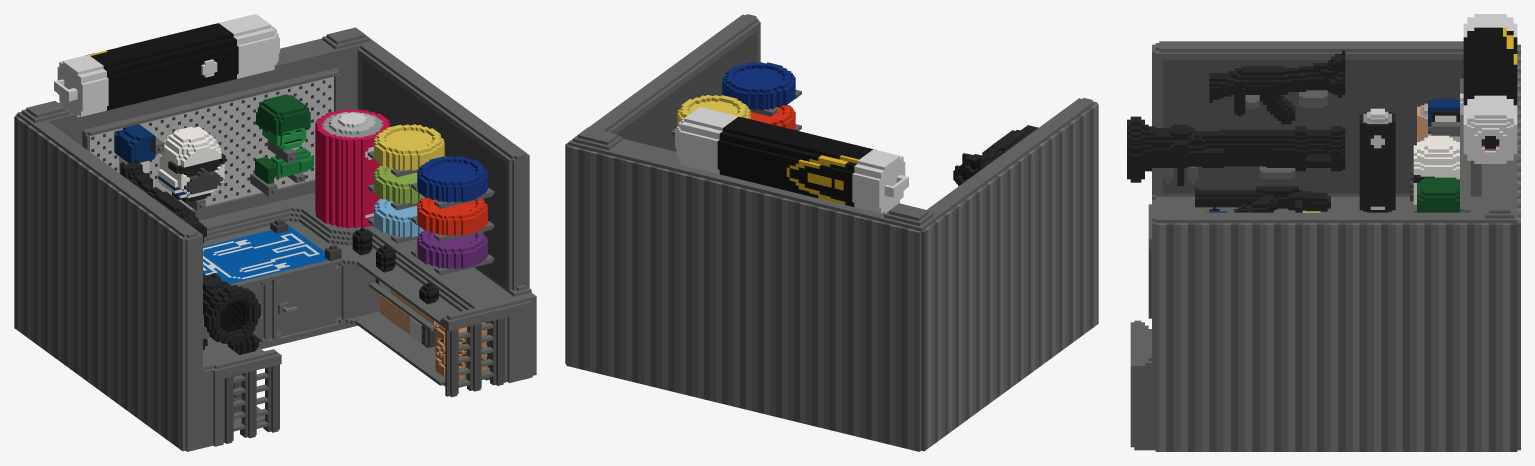
The model's file is weapon_upgrade_station_v1.obj.
The picture shows the model from 3 angles, left to right: view 1: azimuth 30°, elevation 25°; view 2: azimuth 150°, elevation 25°; view 3: azimuth 270°, elevation 25°; orthographic projection. The views are drawn at different scales.
Size of the model in its own units: 12 by 8.6 by 11.
Materials: 1 (1 with a texture image).
